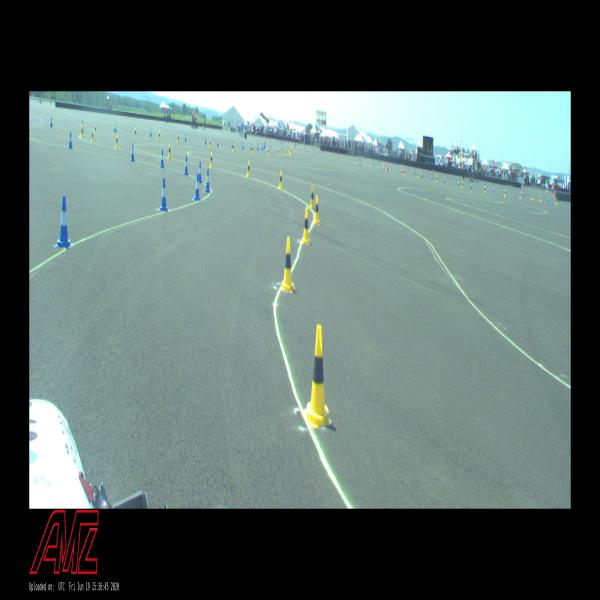blue_cone: (56, 196, 72, 247), (160, 178, 168, 211), (194, 173, 200, 201), (184, 156, 189, 175), (206, 169, 210, 192), (160, 150, 164, 168), (68, 132, 72, 149), (131, 144, 135, 161), (199, 162, 202, 183), (242, 142, 244, 150), (150, 128, 152, 136), (217, 139, 219, 147), (250, 143, 252, 150), (231, 141, 233, 148), (492, 186, 494, 192), (522, 191, 524, 197), (483, 184, 485, 190), (470, 182, 472, 188), (547, 196, 549, 202), (421, 172, 423, 178), (51, 117, 52, 127), (185, 134, 186, 142), (205, 137, 206, 145), (116, 124, 117, 132), (458, 179, 459, 186), (431, 174, 432, 180), (444, 177, 445, 183), (262, 144, 262, 150), (258, 144, 258, 150)
yellow_cone: (304, 325, 331, 428), (280, 237, 294, 293), (302, 208, 310, 245), (313, 196, 320, 225), (310, 186, 314, 209), (247, 161, 251, 177), (279, 170, 282, 189), (210, 152, 213, 168), (168, 144, 171, 159), (81, 124, 84, 138), (91, 130, 94, 142), (94, 124, 97, 134), (113, 126, 116, 136), (116, 134, 118, 148), (134, 128, 136, 138), (177, 134, 179, 143), (252, 145, 254, 154), (209, 140, 211, 148), (158, 132, 160, 140), (461, 181, 463, 188), (555, 198, 557, 205), (278, 149, 280, 156), (540, 195, 542, 202), (417, 172, 419, 179), (519, 192, 521, 199), (484, 186, 486, 192), (285, 150, 287, 156), (532, 194, 534, 200), (504, 190, 506, 196), (268, 148, 269, 156), (233, 143, 234, 151), (436, 176, 437, 183), (404, 170, 405, 174)
